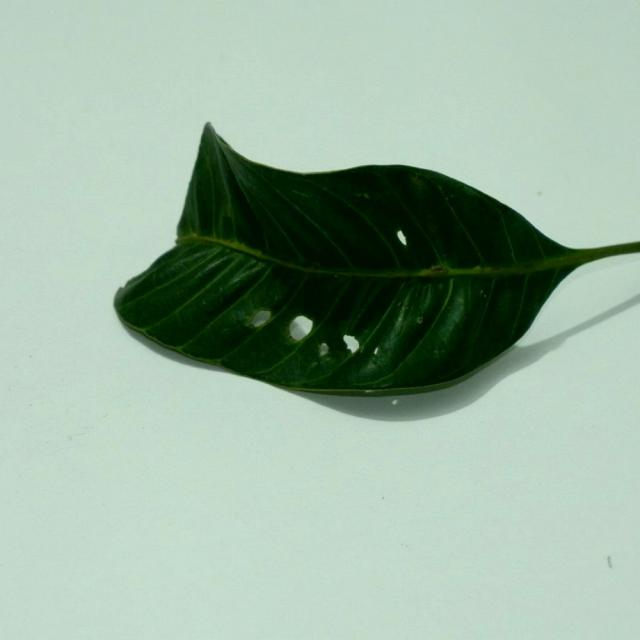Anthracnose: (216, 275, 335, 374), (120, 249, 224, 331), (475, 268, 545, 361), (360, 286, 424, 373), (198, 254, 267, 312), (423, 282, 472, 360), (388, 198, 444, 266), (219, 280, 280, 331), (212, 296, 276, 332)
Mango: (138, 124, 639, 396)
